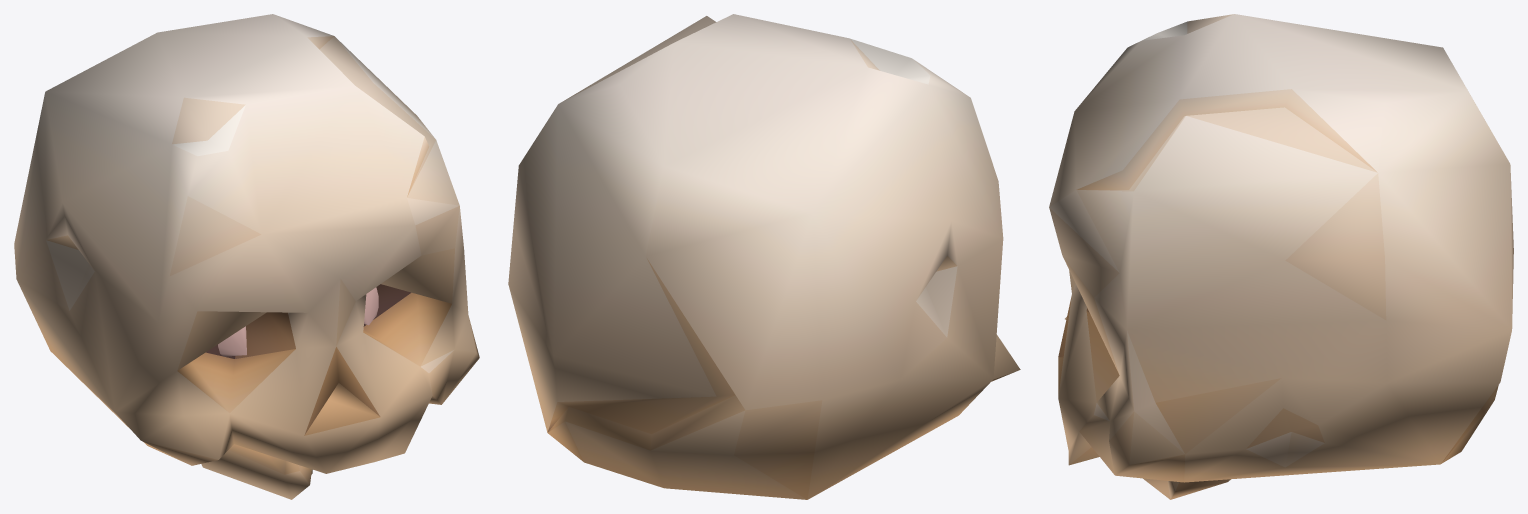
File: decor-cendre-crane-0.glb
3 views of the same model, side by side, from view 1: azimuth 30°, elevation 25°; view 2: azimuth 150°, elevation 25°; view 3: azimuth 270°, elevation 25° (orthographic). The views are drawn at different scales.
Visible parts, largest first — view 1: decor:cendre:crane:0; view 2: decor:cendre:crane:0; view 3: decor:cendre:crane:0.
Part boxes in pixels (bbox=[...]): decor:cendre:crane:0: bbox=[14, 14, 479, 499]; decor:cendre:crane:0: bbox=[508, 14, 1020, 499]; decor:cendre:crane:0: bbox=[1049, 14, 1513, 499].
Size of the model in its own units: 0.458 by 0.5 by 0.4693.
1 material, 1 textured.
